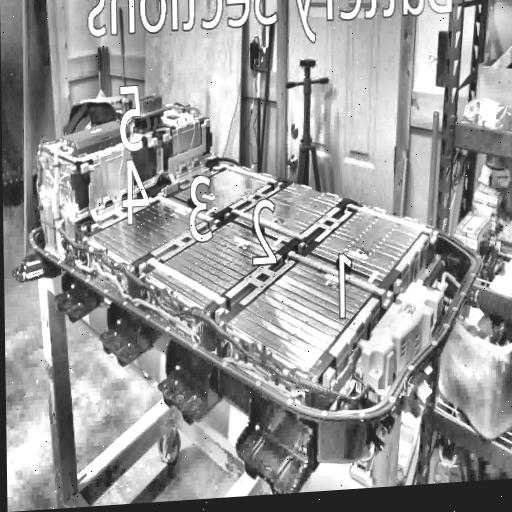battery_module: (227, 253, 379, 371), (147, 221, 284, 310), (89, 196, 213, 264), (312, 205, 424, 280), (232, 181, 343, 243), (173, 166, 275, 214)
connector: (128, 92, 168, 133)
